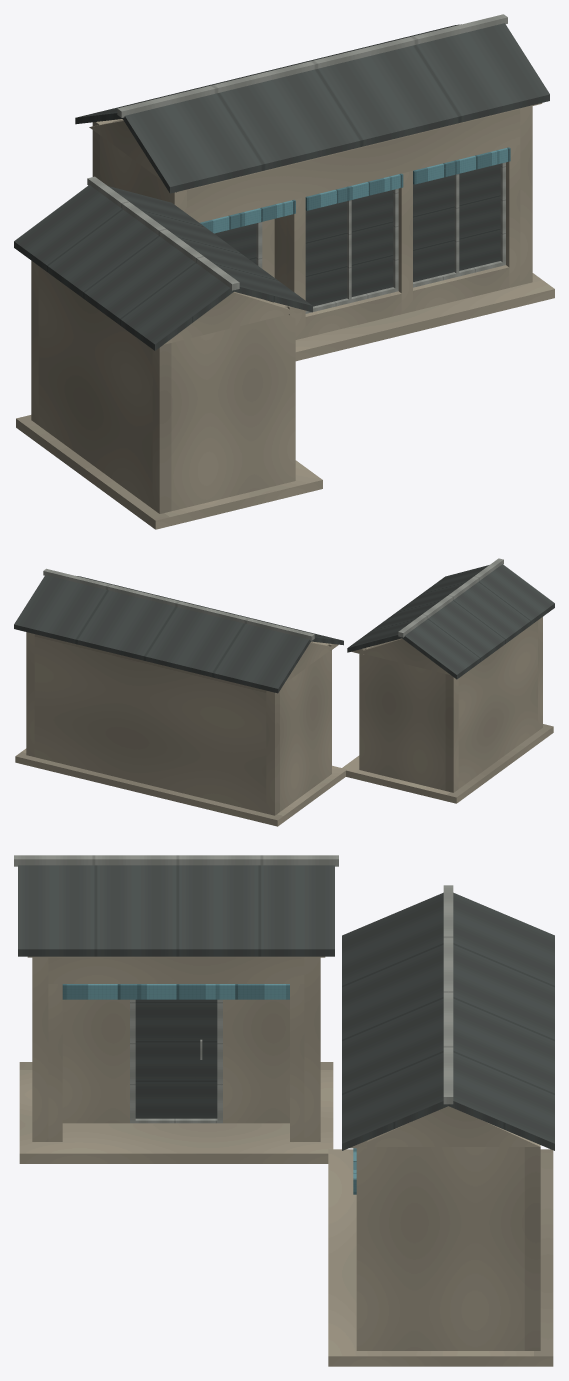
The model's file is montevideo.glb.
3 renders of one model, top to bottom at view 1: azimuth 30°, elevation 25°; view 2: azimuth 150°, elevation 25°; view 3: azimuth 270°, elevation 25°, orthographic. The views are drawn at different scales.
Visible parts, largest first — view 1: montevideo; view 2: montevideo; view 3: montevideo.
Part boxes in pixels (left/top/right/bottom): montevideo: left=14, top=14, right=554, bottom=529; montevideo: left=14, top=558, right=554, bottom=826; montevideo: left=14, top=855, right=554, bottom=1366.
Size of the model in its own units: 7.93 by 3.38 by 6.1.
1 material, 1 textured.
